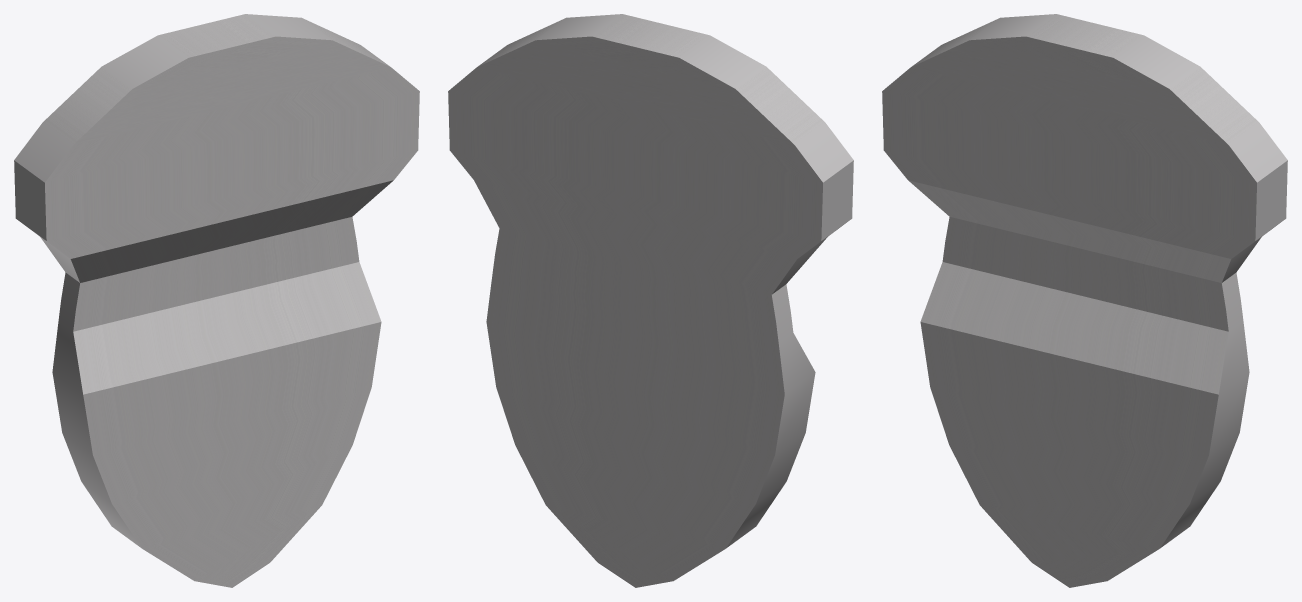
The model's file is ringDown.fbx.
3 renders of one model, left to right at view 1: azimuth 30°, elevation 25°; view 2: azimuth 150°, elevation 25°; view 3: azimuth 330°, elevation 25°, orthographic.
Parts seen in each view (by area): view 1: Cylinder.059; view 2: Cylinder.059; view 3: Cylinder.059.
Boxes of the visible parts, left/top/right/bottom form: Cylinder.059: left=14, top=14, right=419, bottom=587; Cylinder.059: left=448, top=14, right=853, bottom=587; Cylinder.059: left=882, top=14, right=1287, bottom=587.
Size of the model in its own units: 321 by 442 by 45.56.
Materials: 1 (1 with a texture image).
